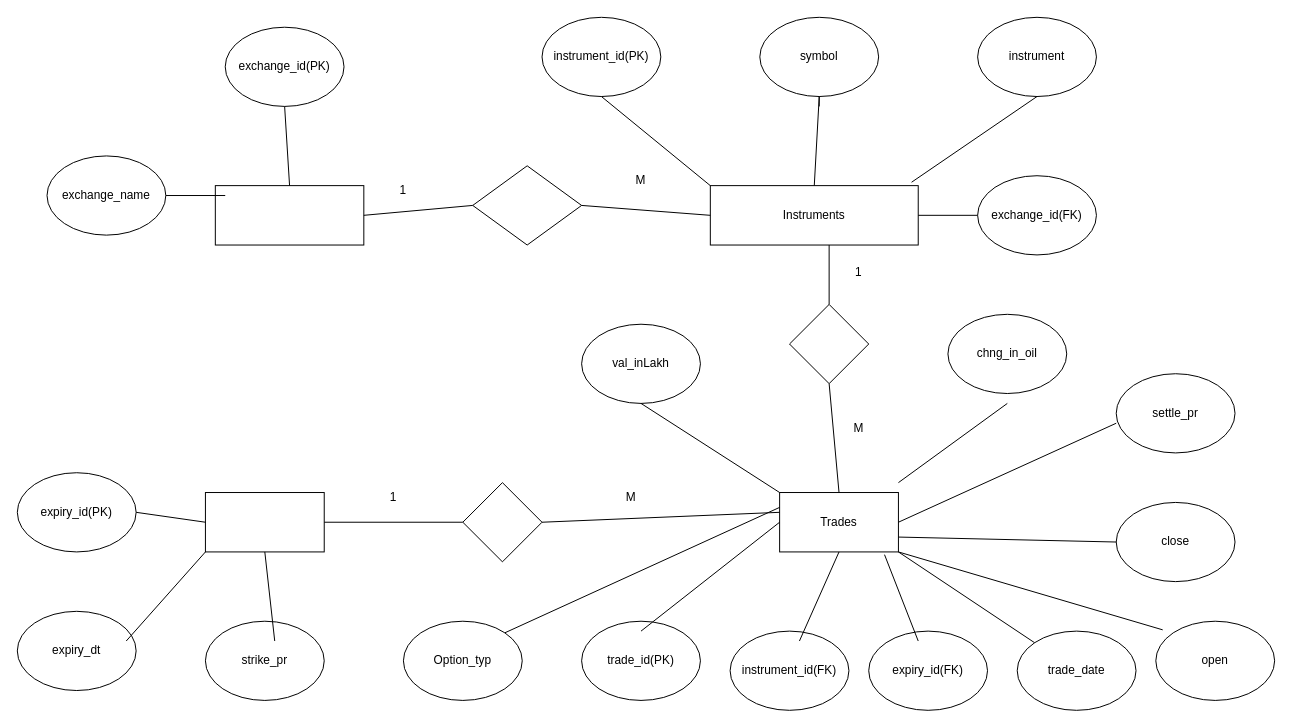
The diagram is 1292 pixels wide and 728 high, and some of its shapes have lost their labels. Each missing label, with the centre of its shape:
Applies_to: the point at 502,522
Exchanges: the point at 289,215
Expirires: the point at 264,522
Has: the point at 829,343
Lists: the point at 527,205
